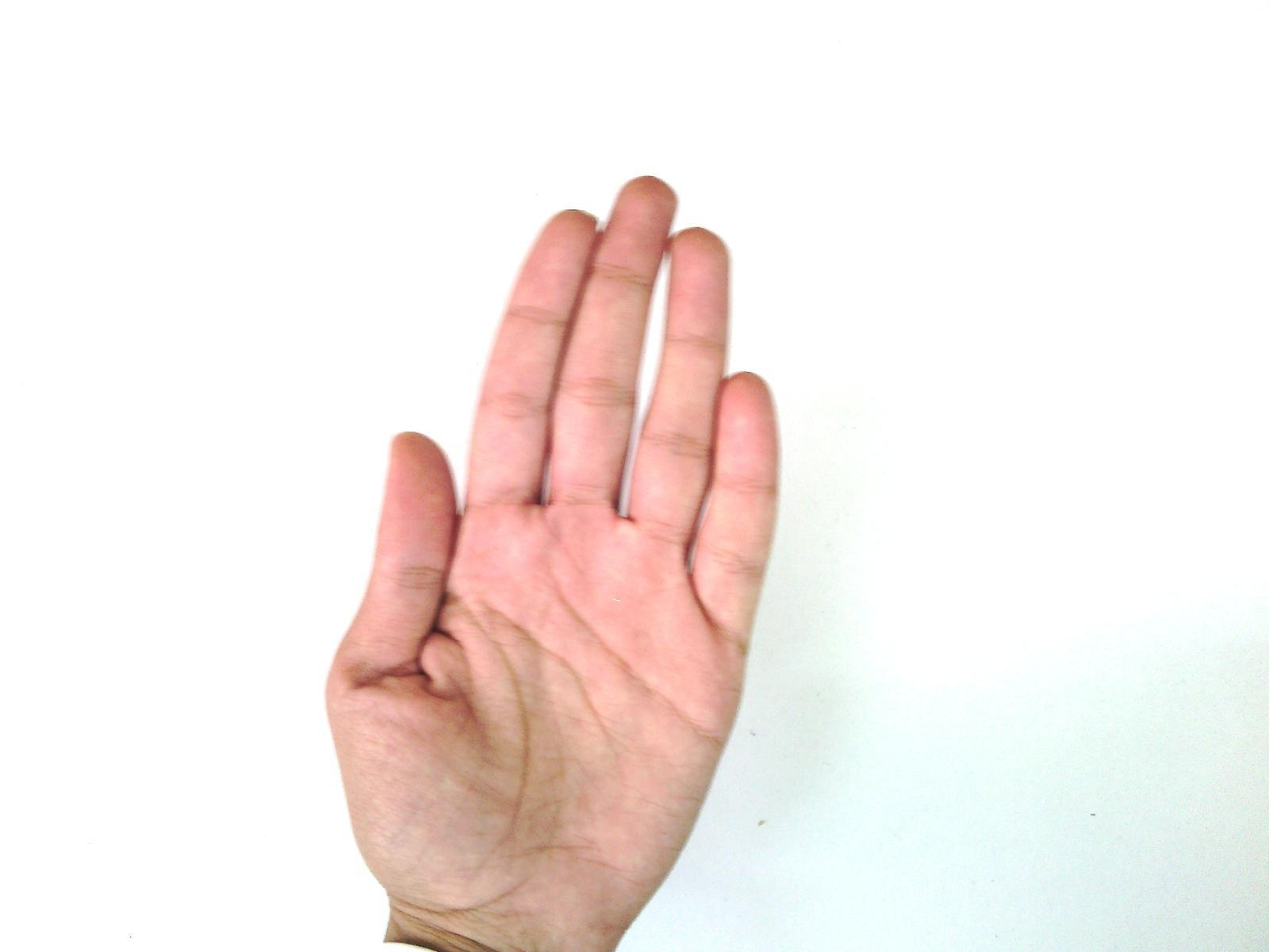open_palm: (323, 175, 784, 950)
